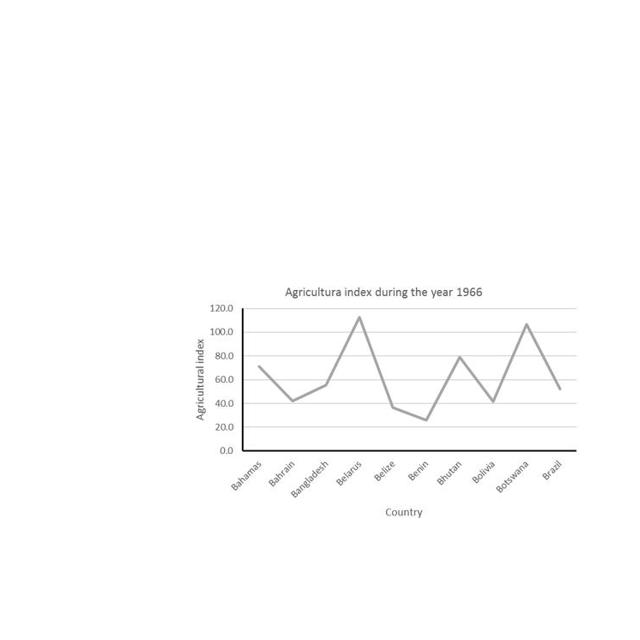Graph: (188, 279, 583, 518)
